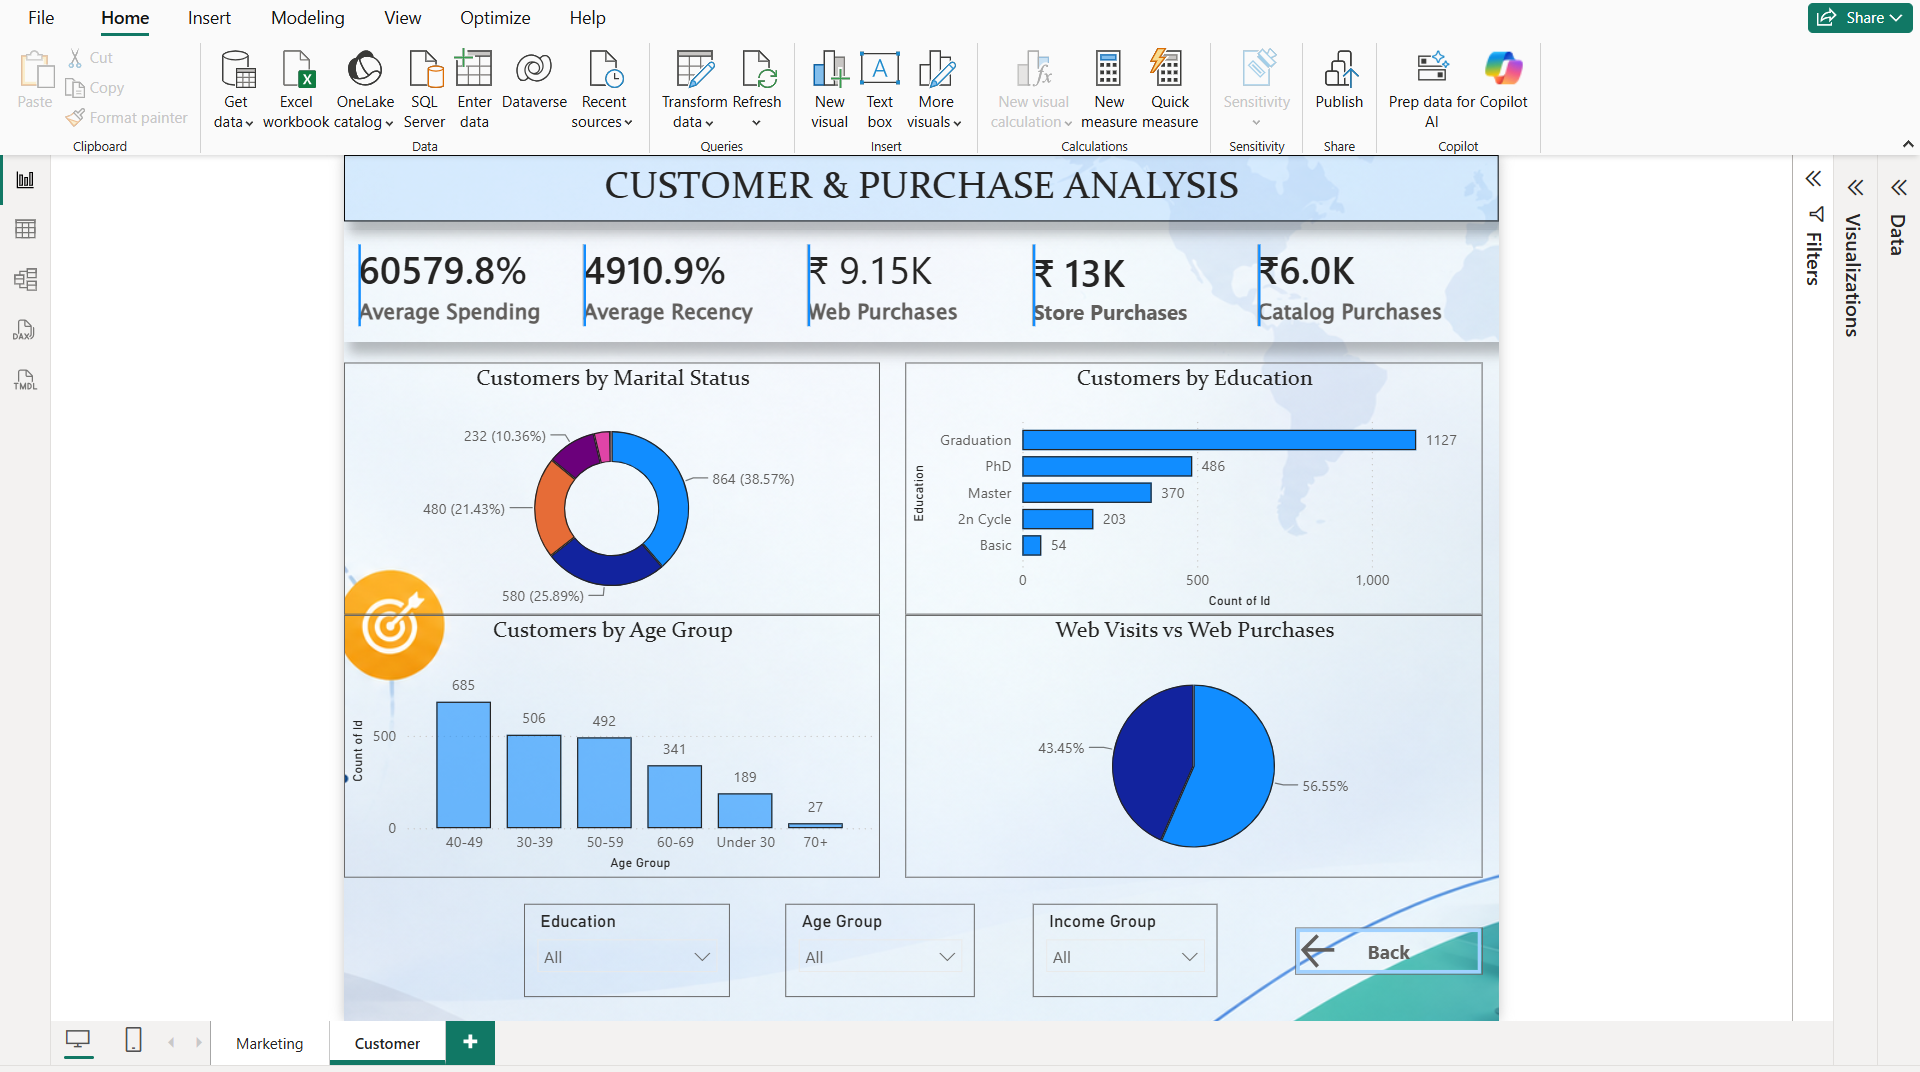

Layout of this report page (visuals, bound fields, positions):
{"tool":"powerbi","page":{"name":"Customer","canvas":[960,720],"ordinal":1},"visuals":[{"type":"textbox","box":[0,0,960.3,55.1],"z":0},{"type":"cardVisual","fields":{"Data":["superstore_data.Average Spending","superstore_data.Average Recency","superstore_data.Web Purchases","superstore_data.Store Purchases","superstore_data.Catalog Purchases"]},"box":[0,62.4,960.3,92.5],"z":1000},{"type":"pieChart","title":"Web Visits vs Web Purchases","fields":{"Y":["Sum(superstore_data.NumWebVisitsMonth)","Sum(superstore_data.NumWebPurchases)"]},"box":[466.6,382.4,480.1,218.2],"z":2000},{"type":"clusteredBarChart","title":"Customers by Education","fields":{"Y":["CountNonNull(superstore_data.Id)"],"Category":["superstore_data.Education"]},"box":[466.6,172.5,480.1,209.9],"z":3000},{"type":"donutChart","title":"Customers by Marital Status","fields":{"Category":["superstore_data.Marital_Status"],"Y":["CountNonNull(superstore_data.Id)"]},"box":[0,172.5,445.8,209.9],"z":4000},{"type":"columnChart","title":"Customers by Age Group","fields":{"Category":["superstore_data.Age Group"],"Y":["CountNonNull(superstore_data.Id)"]},"box":[0,382.4,445.8,218.2],"z":5000},{"type":"slicer","fields":{"Values":["superstore_data.Education"]},"box":[149.7,622.5,171.5,77.9],"z":6000},{"type":"slicer","fields":{"Values":["superstore_data.Age Group"]},"box":[366.9,622.5,158,77.9],"z":7000},{"type":"slicer","fields":{"Values":["superstore_data.Income Group"]},"box":[572.6,622.5,153.8,77.9],"z":8000},{"type":"actionButton","box":[790.9,642.3,155.9,39.5],"z":9000}]}

Visuals, with their boxes on the page's 960x720 design canvas (x1, y1, x2, y2). These are canvas units, not pixel positions in the 1920x1072 screenshot, which may show the page scaled, cropped or inside an application window:
textbox: locate(0, 0, 960, 55)
cardVisual - superstore_data.Average Spending x superstore_data.Average Recency: locate(0, 62, 960, 155)
"Web Visits vs Web Purchases" pieChart: locate(467, 382, 947, 601)
"Customers by Education" clusteredBarChart: locate(467, 172, 947, 382)
"Customers by Marital Status" donutChart: locate(0, 172, 446, 382)
"Customers by Age Group" columnChart: locate(0, 382, 446, 601)
slicer - superstore_data.Education: locate(150, 622, 321, 700)
slicer - superstore_data.Age Group: locate(367, 622, 525, 700)
slicer - superstore_data.Income Group: locate(573, 622, 726, 700)
actionButton: locate(791, 642, 947, 682)
